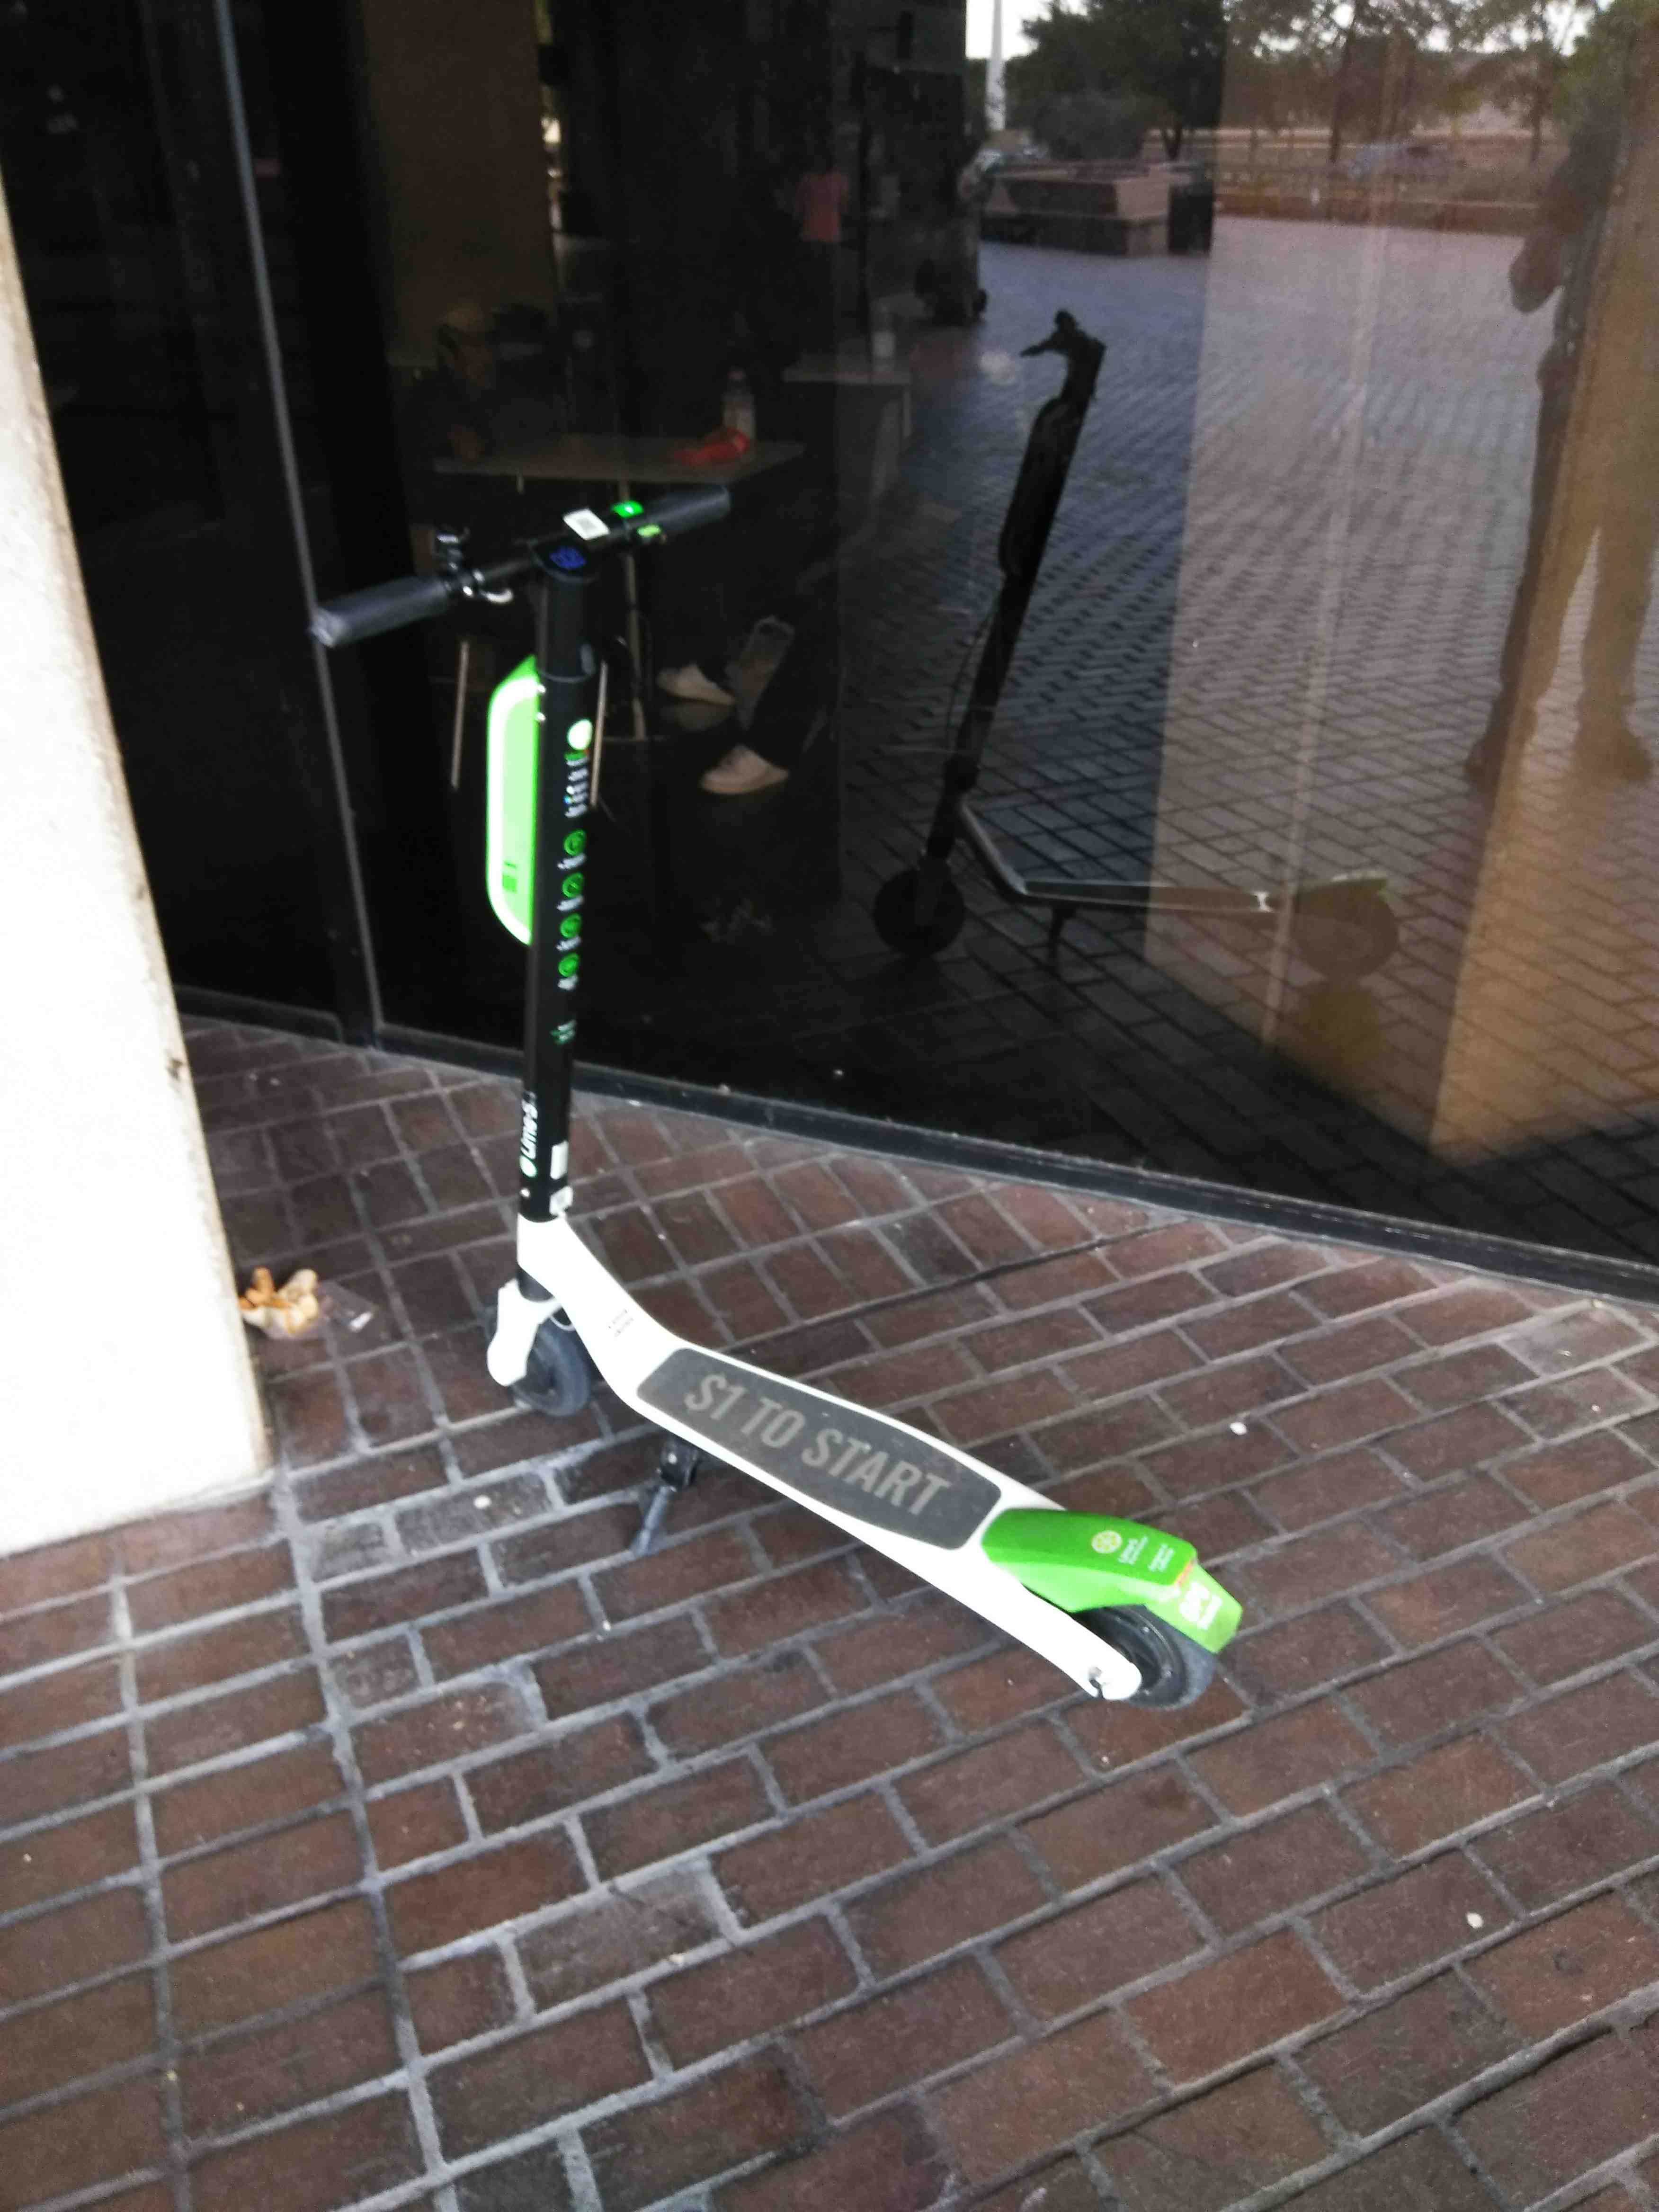scooter: (315, 416, 1265, 1712)
